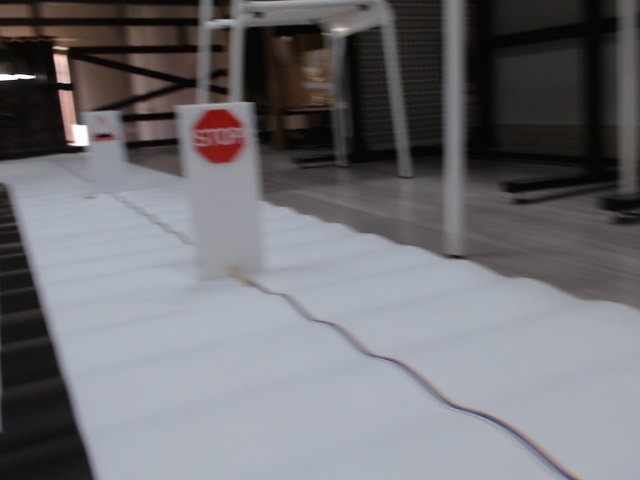Nerov: (89, 117, 119, 144)
Stop: (194, 110, 245, 165)
